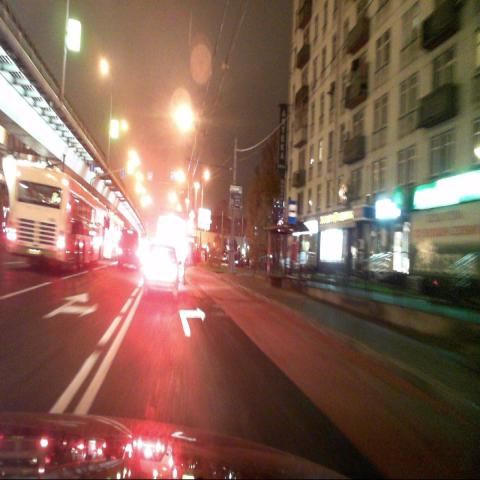5_16: (288, 201, 297, 225)
